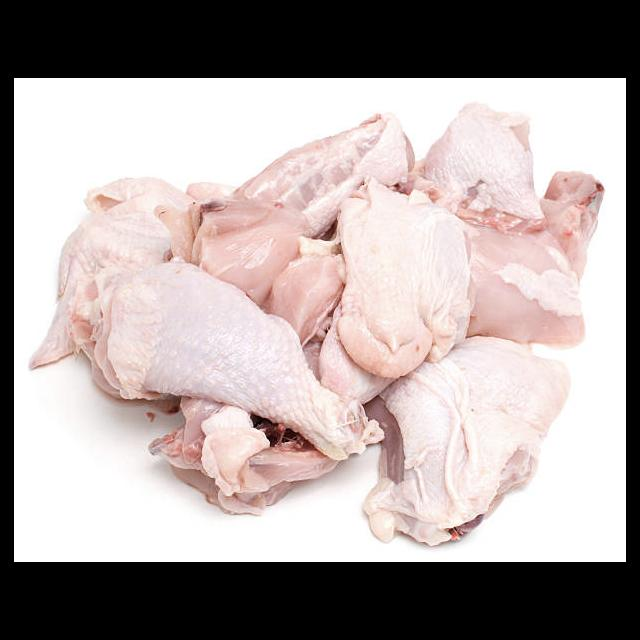chicken: (70, 257, 387, 462), (364, 334, 570, 552), (315, 180, 476, 409), (29, 170, 199, 373), (240, 107, 414, 218), (457, 224, 587, 351)
